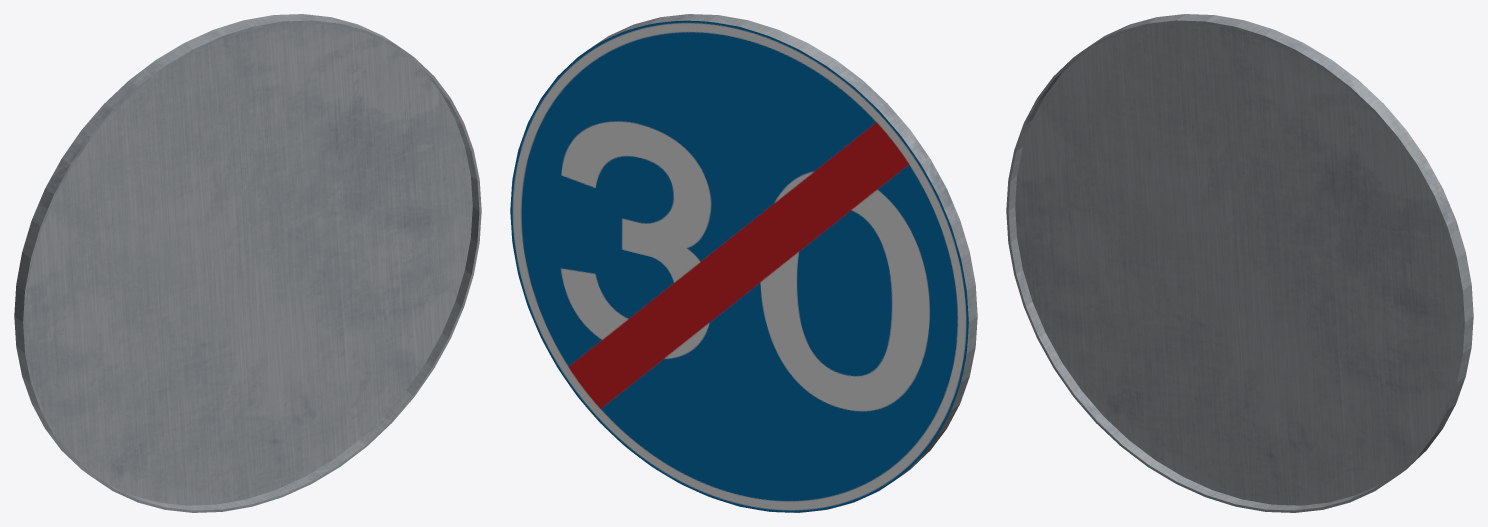
Rendered from End_of_minimum_speed_limit_30.fbx.
3 views of the same model, side by side, from view 1: azimuth 30°, elevation 25°; view 2: azimuth 150°, elevation 25°; view 3: azimuth 330°, elevation 25° (orthographic).
Parts seen in each view (by area): view 1: End of minimum speed limit 30; view 2: End of minimum speed limit 30; view 3: End of minimum speed limit 30.
Part boxes in pixels (x1,y1,x2,y2): End of minimum speed limit 30: (14, 14, 481, 512); End of minimum speed limit 30: (510, 14, 977, 512); End of minimum speed limit 30: (1006, 14, 1473, 512).
Size of the model in its own units: 0.02 by 0.6 by 0.6.
